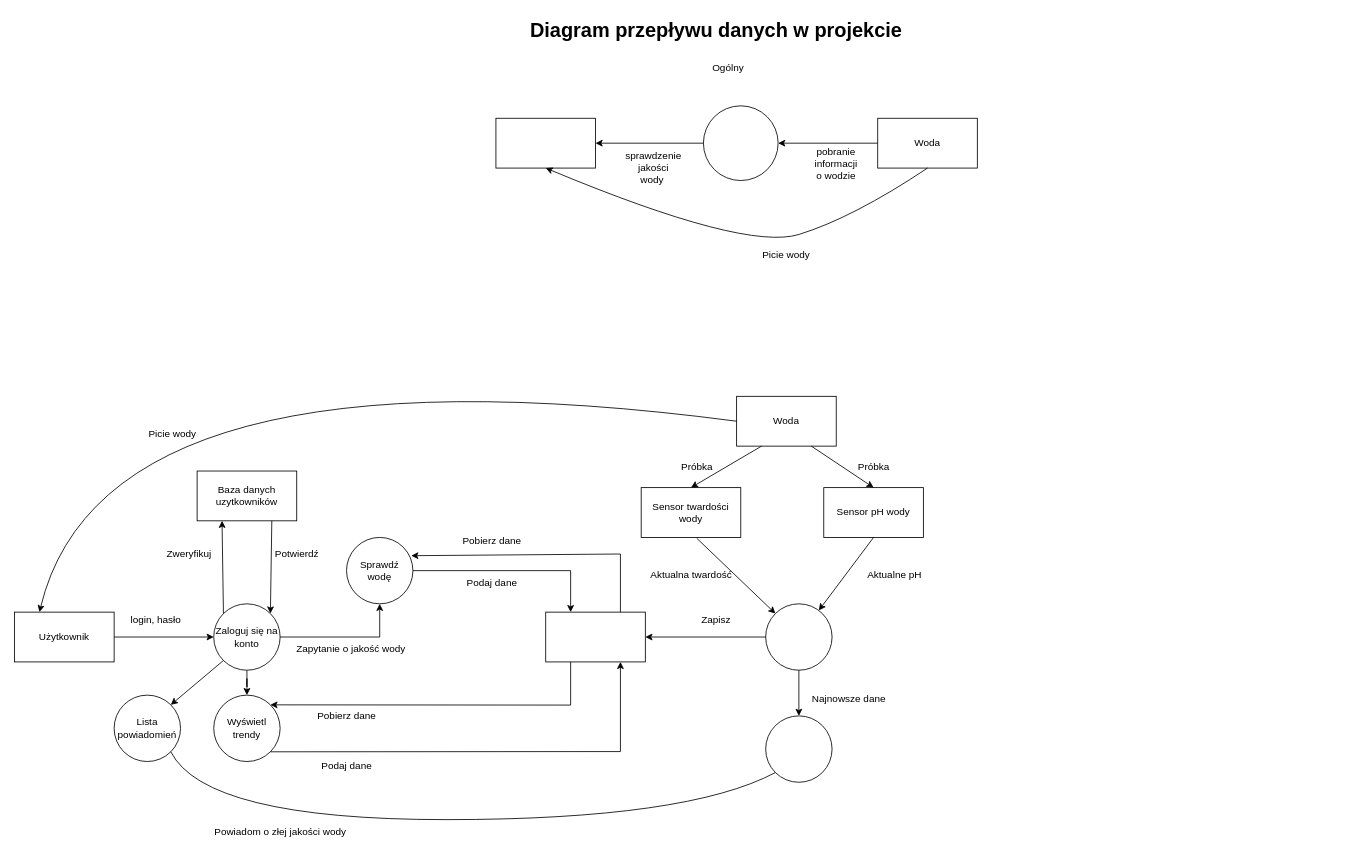
The diagram is 1357 pixels wide and 858 high, and some of its shapes have lost their labels. Here are the shapes that lost their labels. From the top down, the centre of each, then its label:
At (x=545, y=142): "Uzytkownik".
At (x=740, y=143): "System oceny wody".
At (x=595, y=636): "Baza danych jakości wody".
At (x=798, y=636): "Zbierz aktualne dane".
At (x=798, y=748): "Monitoring".
